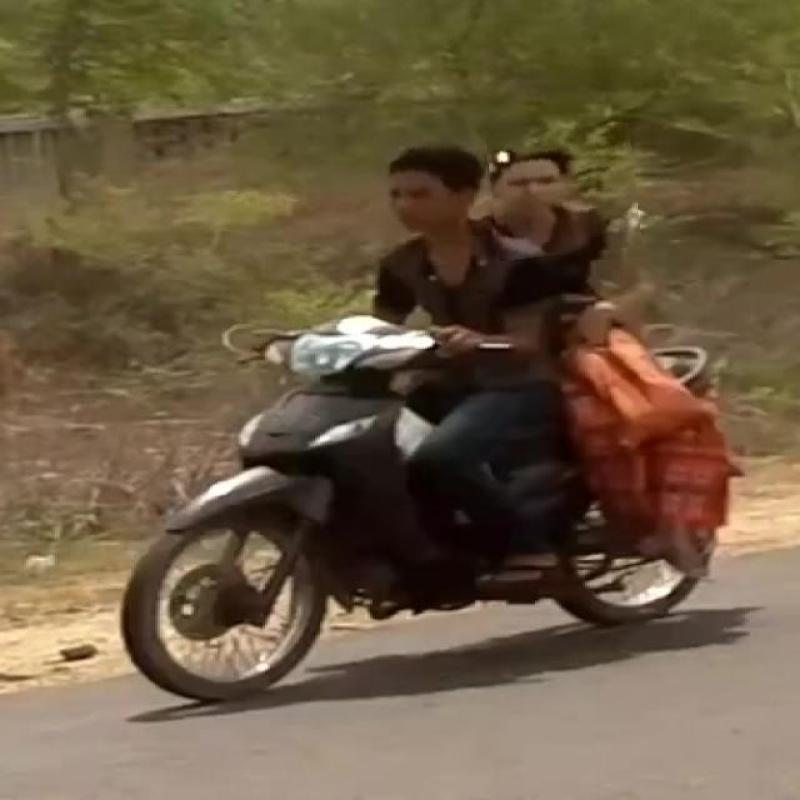nohelmet: (489, 127, 639, 258), (370, 134, 486, 235)
